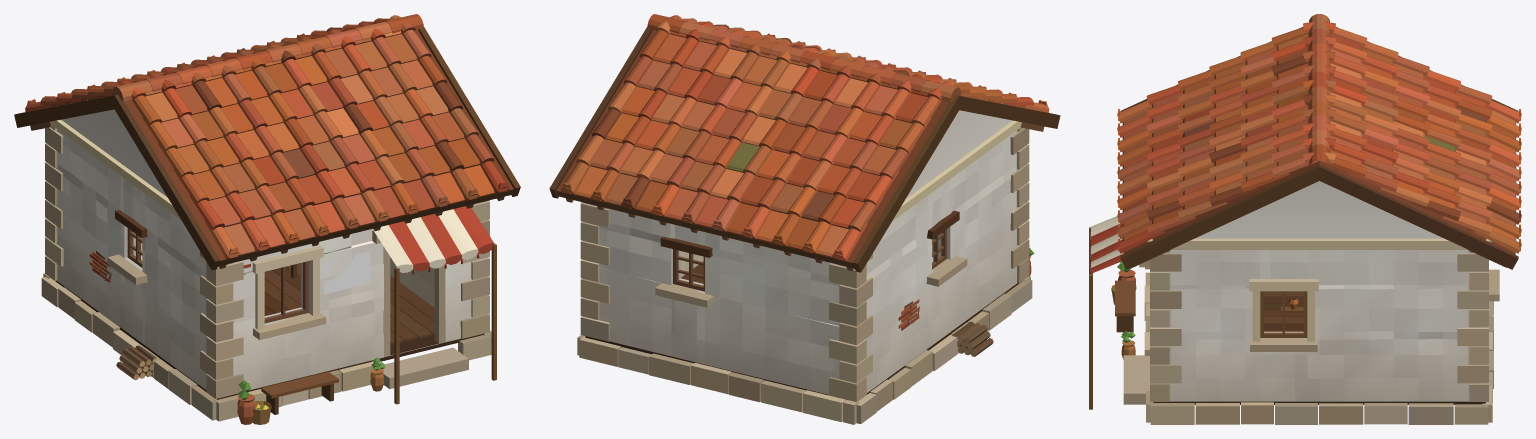
Rendered from pleb_0_1.glb.
3 renders of one model, left to right at view 1: azimuth 30°, elevation 25°; view 2: azimuth 150°, elevation 25°; view 3: azimuth 270°, elevation 25°, orthographic.
Visible parts, largest first — view 1: House, Walls, Rooms, Notice; view 2: House, Walls; view 3: House, Walls, Rooms.
Boxes of the visible parts, bbox=[...] form: House: bbox=[14, 14, 520, 424]; Walls: bbox=[56, 109, 485, 390]; Rooms: bbox=[141, 238, 434, 345]; Notice: bbox=[324, 251, 370, 294]; House: bbox=[549, 14, 1060, 424]; Walls: bbox=[584, 110, 1017, 394]; House: bbox=[1089, 14, 1521, 424]; Walls: bbox=[1153, 181, 1485, 401]; Rooms: bbox=[1264, 291, 1303, 331].
Size of the model in its own units: 4.19 by 3.48 by 5.06.
Materials: 7 (7 with a texture image).
